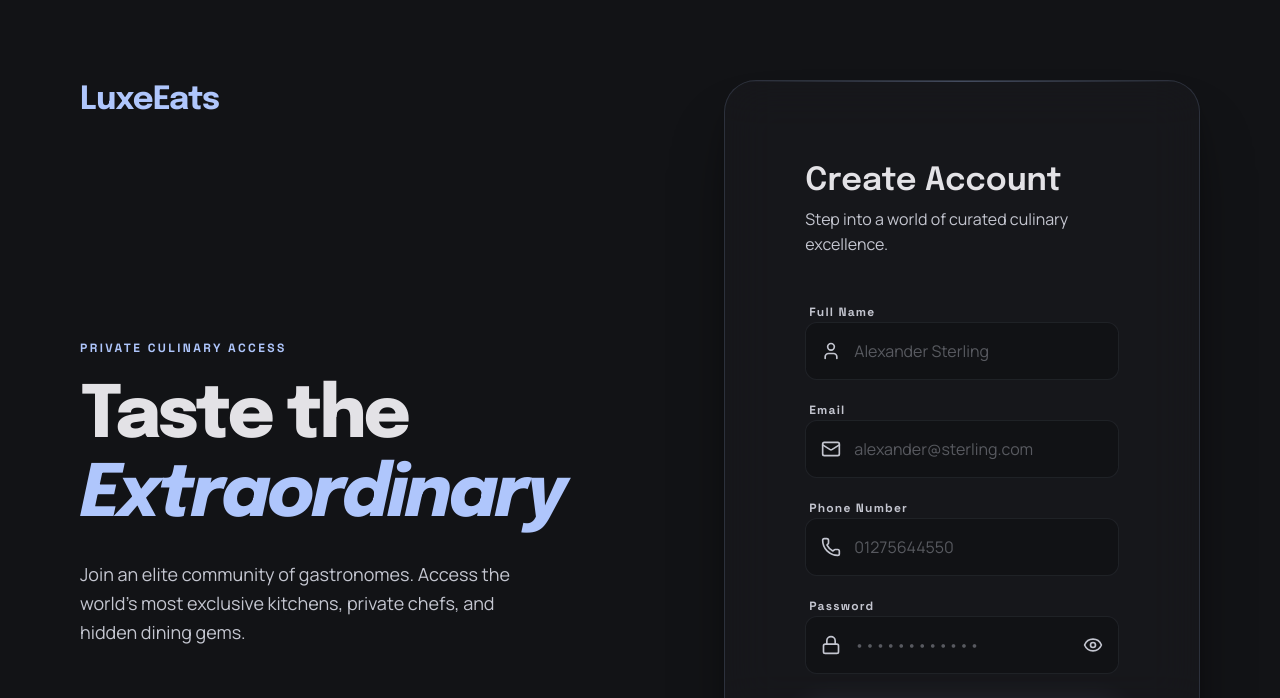
Test: RegisterPage › password validation › shows error when password contains no uppercase letter
Type "securepass1@" into the password field labelled "Password" at (962, 645), box left=805, top=616, right=1119, bottom=674
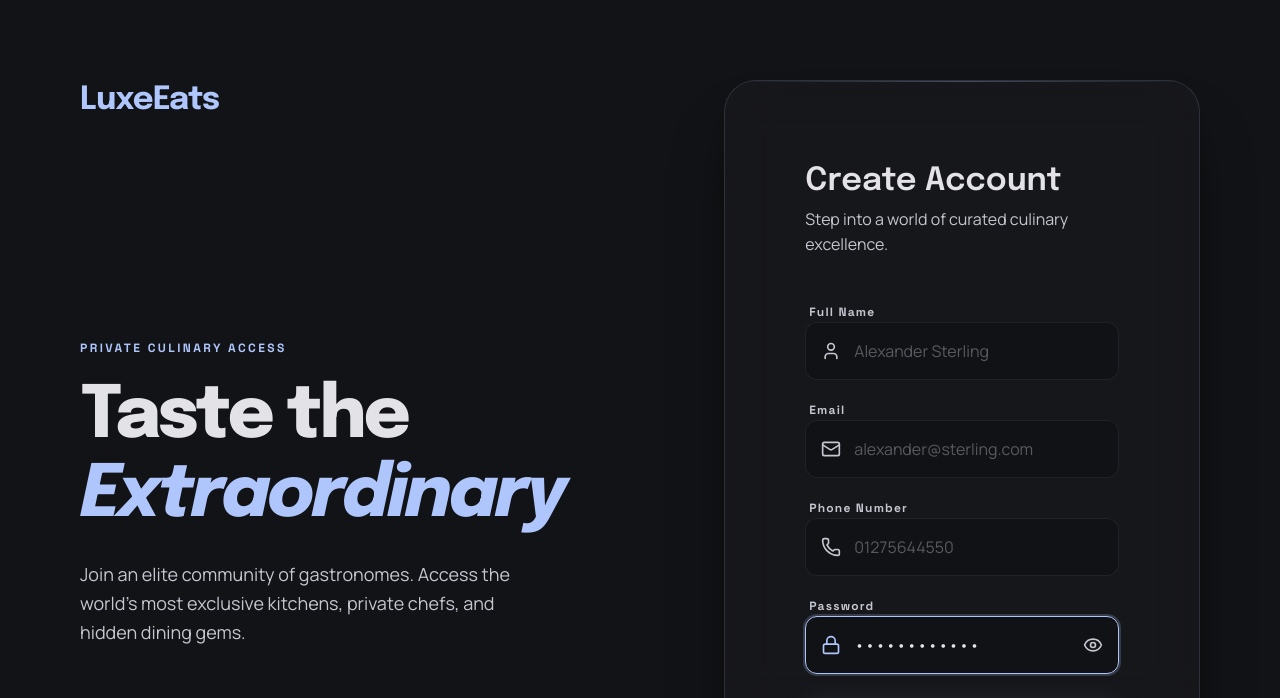
Press Tab
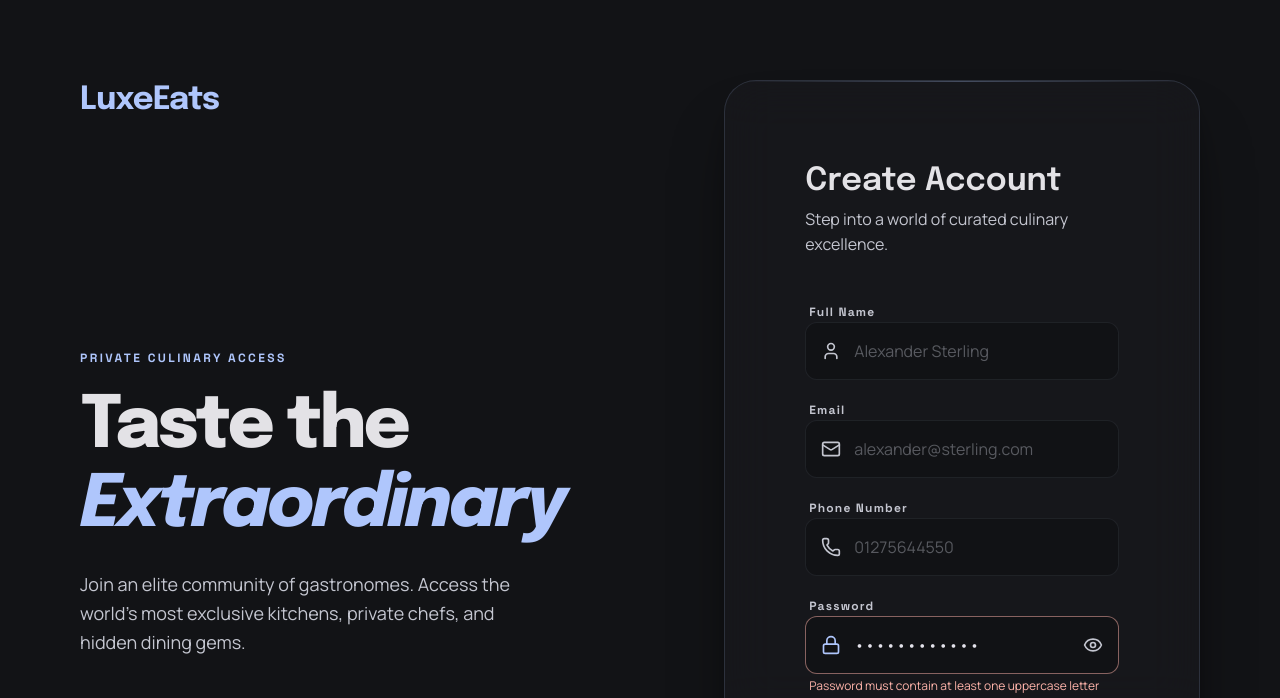
Now the text "Password must contain at least one uppercase letter" is shown, box left=809, top=678, right=1119, bottom=694
